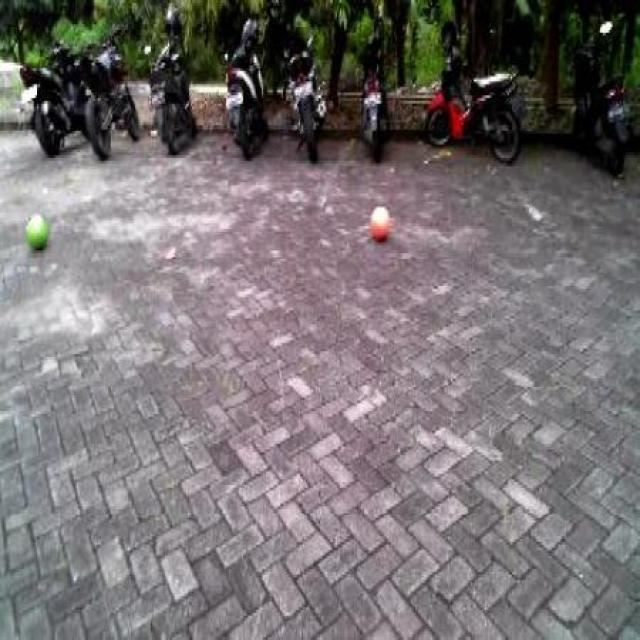buoy: (17, 189, 57, 266), (358, 188, 396, 256)
